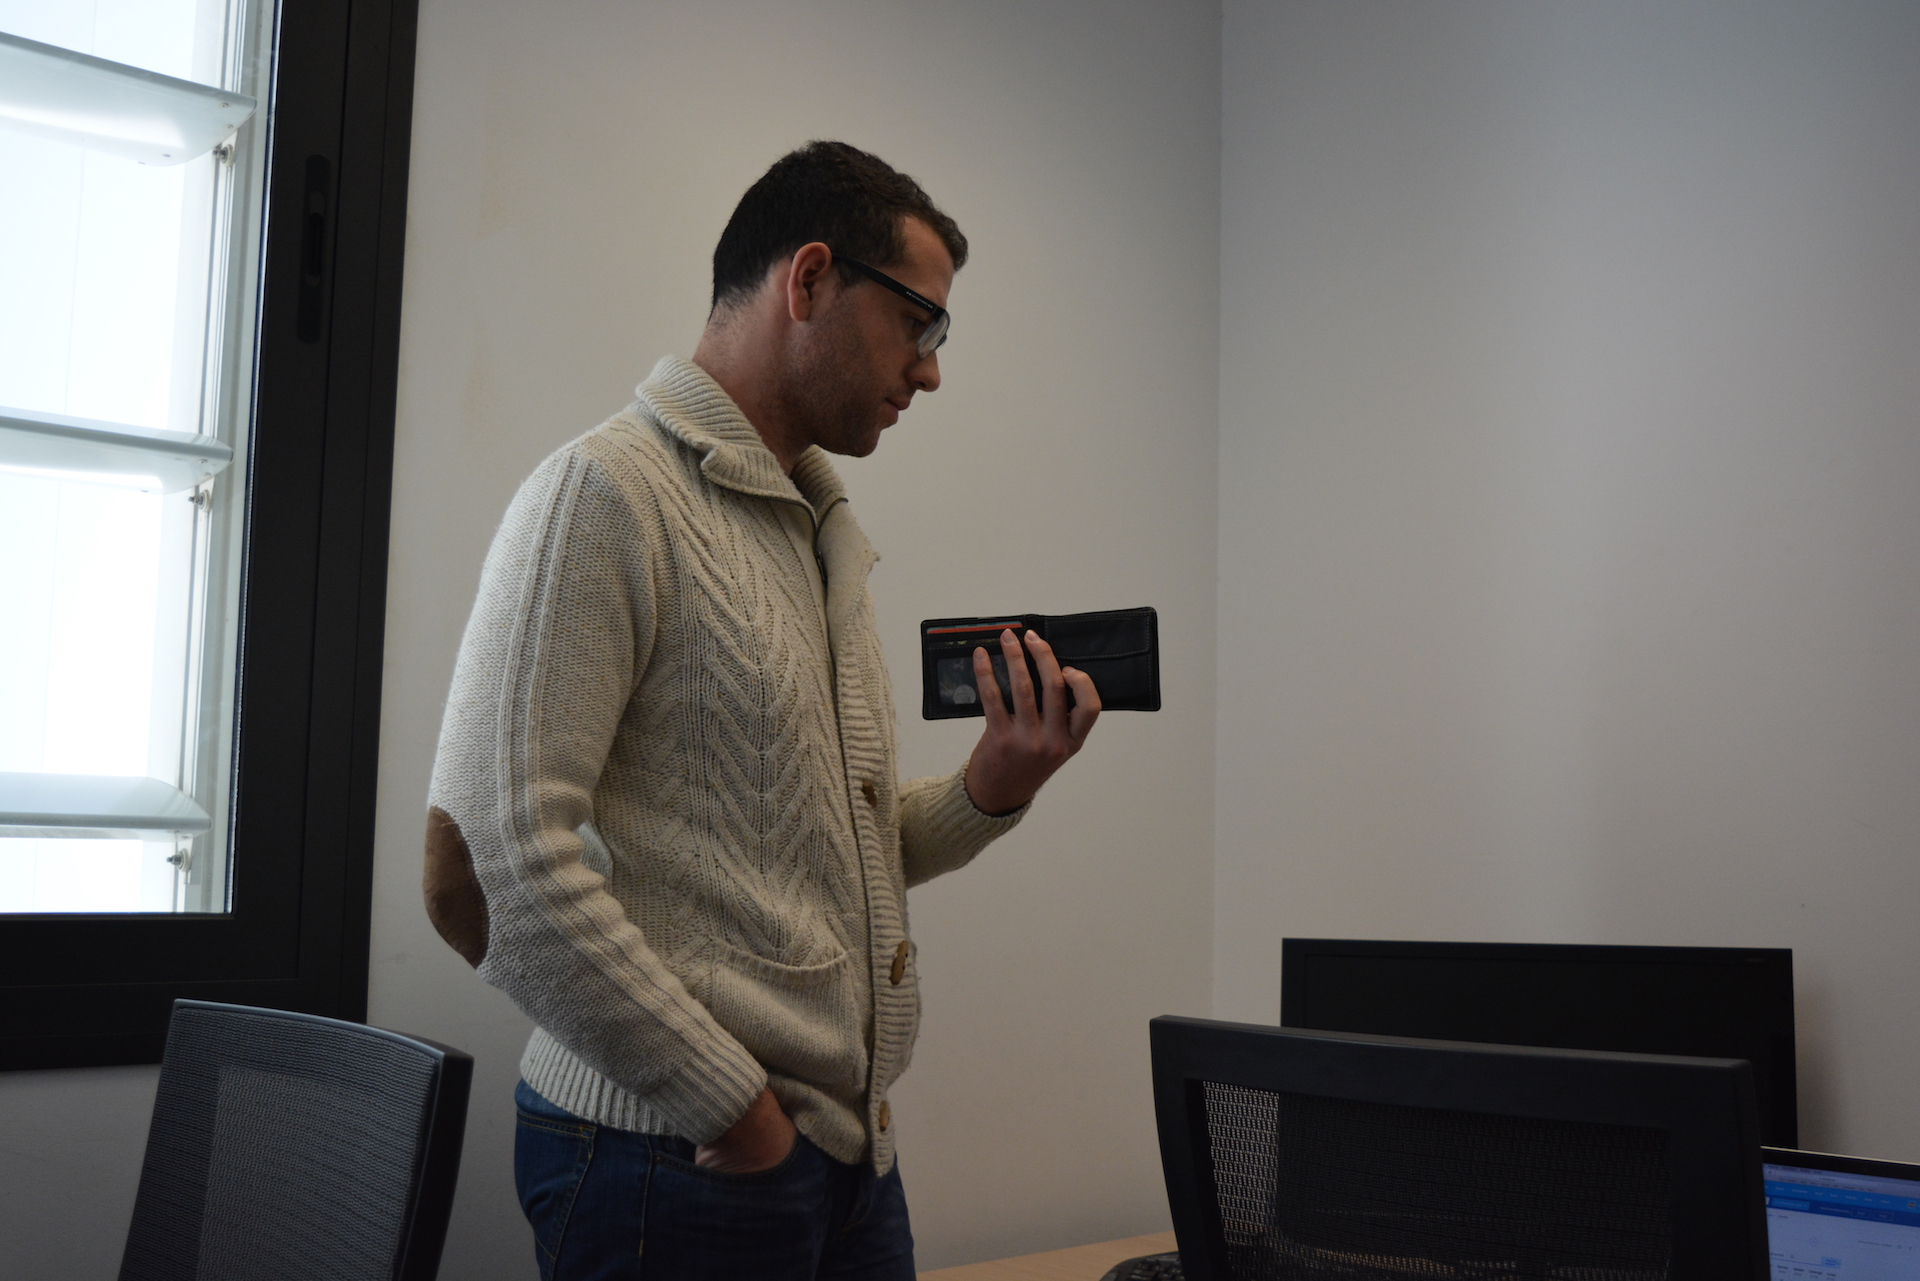monedero: (919, 603, 1162, 723)
